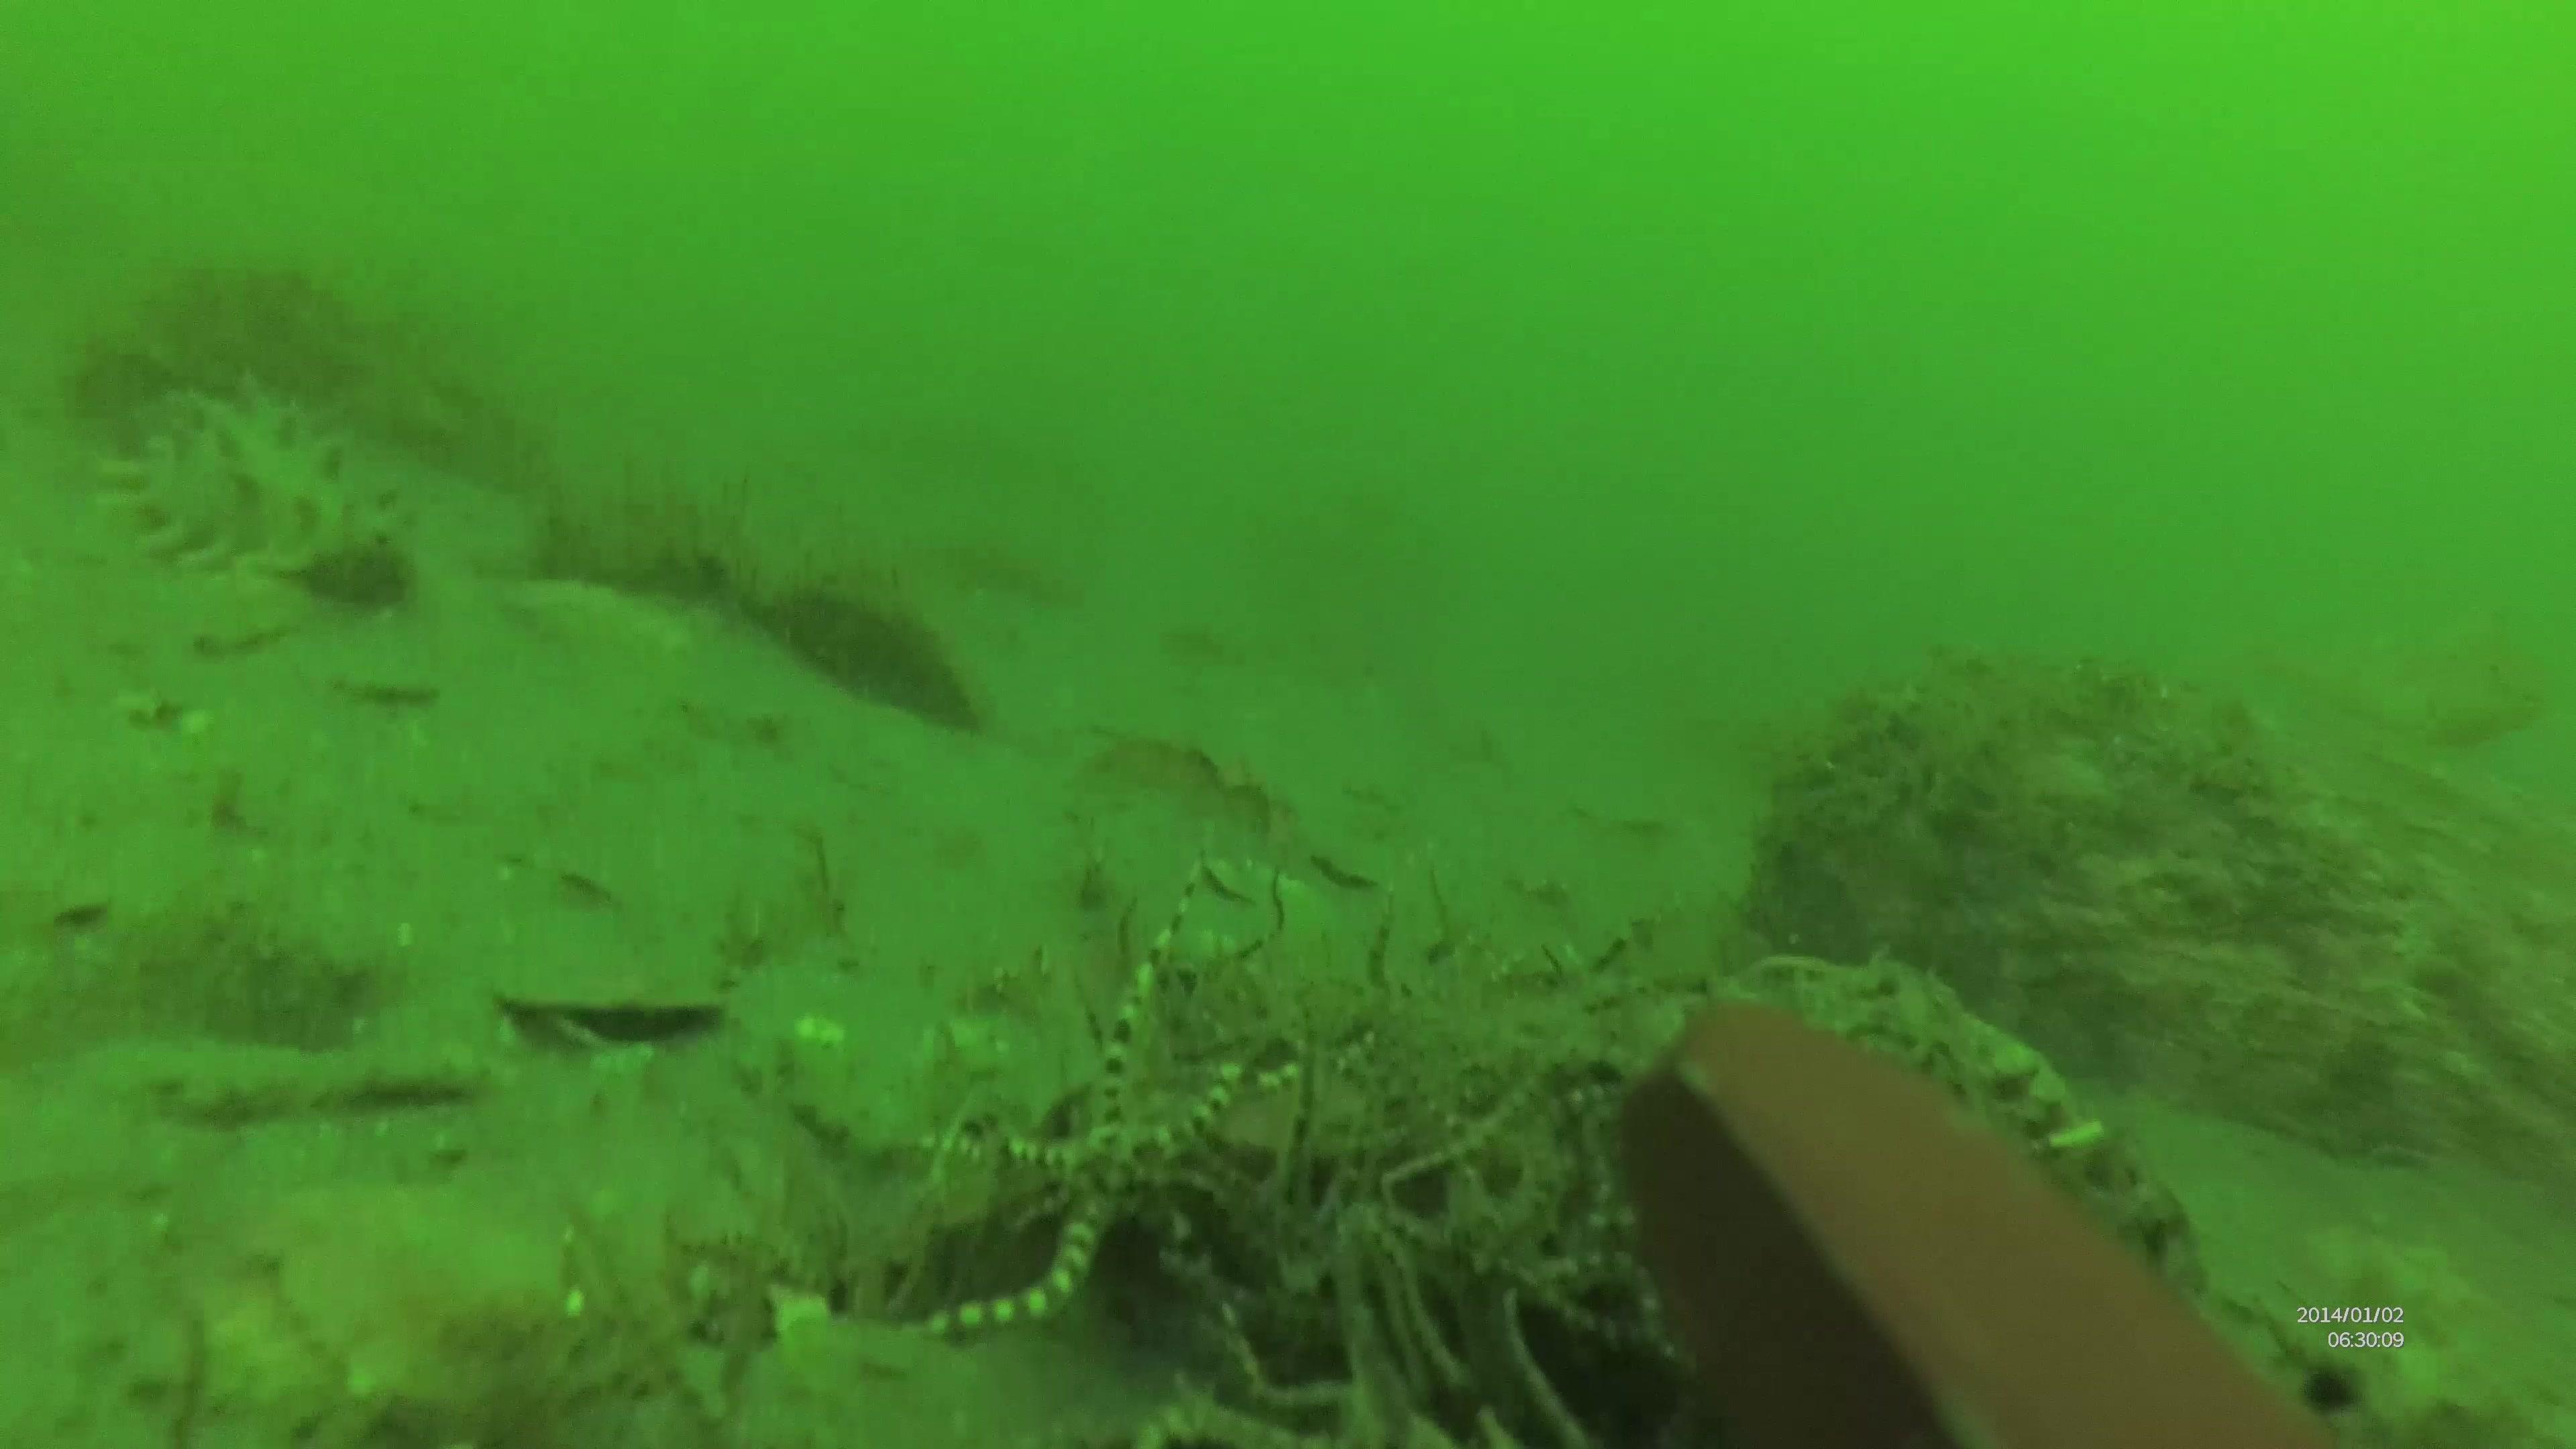holothurian: (67, 384, 428, 602)
